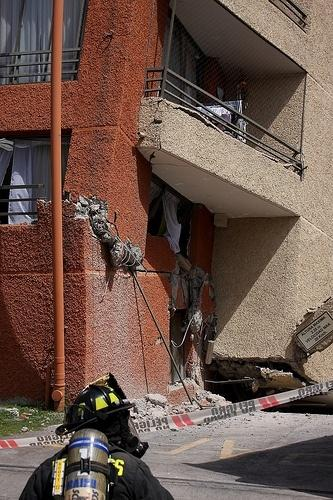Crack: (62, 188, 152, 295)
